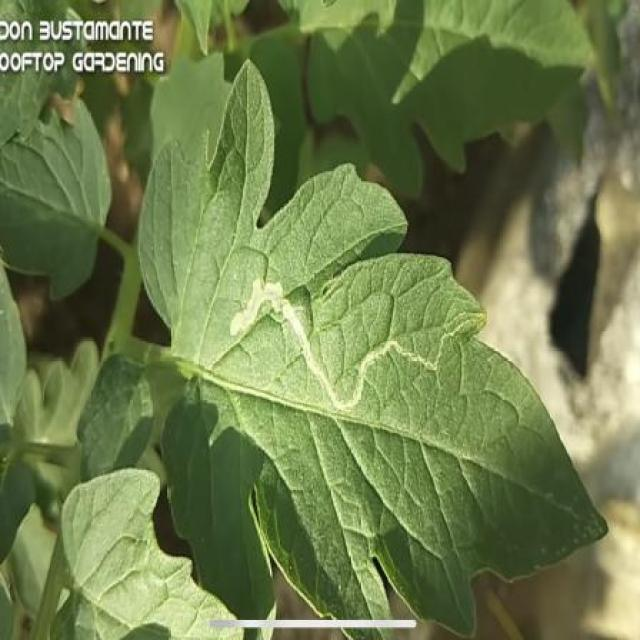Leaf Miner: (140, 50, 610, 640)
